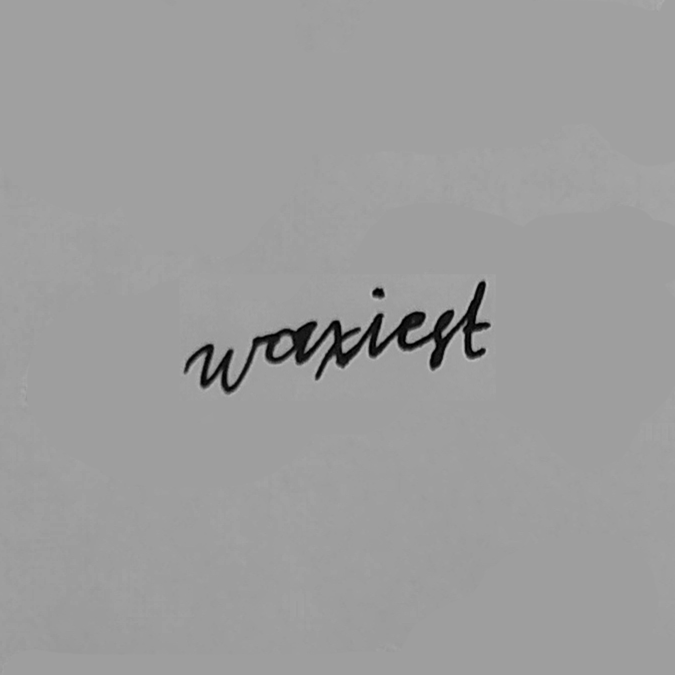a: (263, 317, 320, 368)
e: (392, 306, 426, 353)
i: (364, 284, 390, 363)
s: (427, 305, 457, 377)
t: (459, 274, 495, 363)
w: (194, 330, 260, 394)
x: (311, 316, 363, 382)
